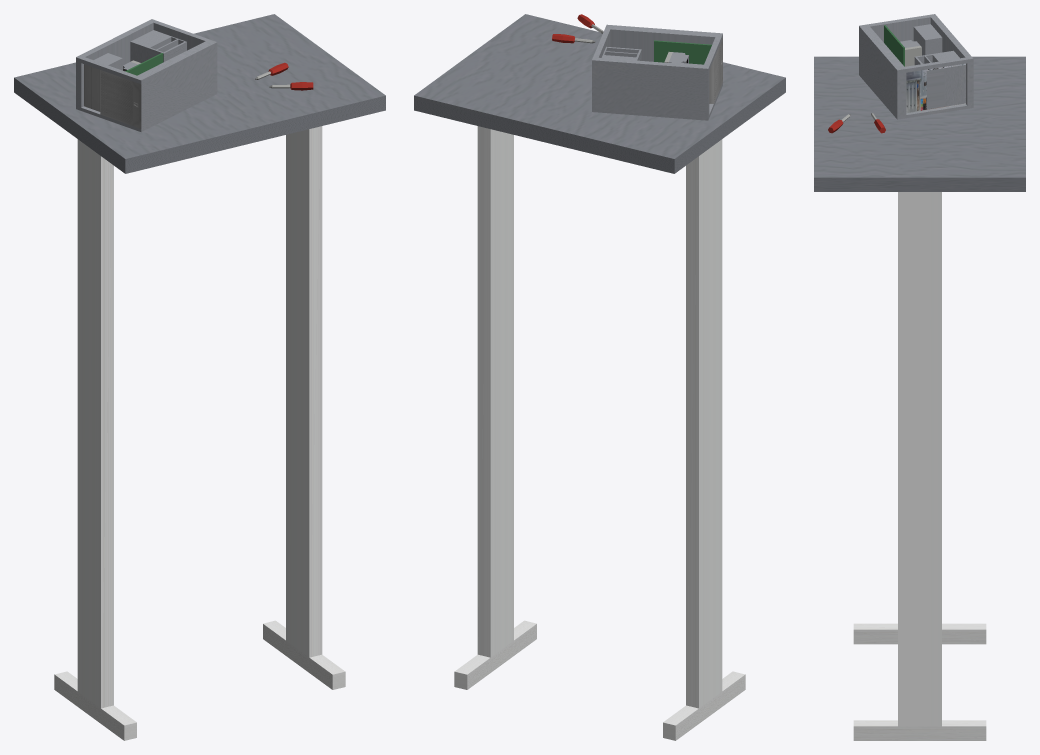
The model's file is DeskWorkSize2V1PC.gltf.
3 views of the same model, side by side, from view 1: azimuth 30°, elevation 25°; view 2: azimuth 150°, elevation 25°; view 3: azimuth 270°, elevation 25° (orthographic). The views are drawn at different scales.
Parts seen in each view (by area): view 1: Cube, Cube.001; view 2: Cube, Cube.001; view 3: Cube, Cube.001.
Boxes of the visible parts, box(x1,y1,x2,y2) form: Cube: box(14, 14, 385, 740); Cube.001: box(76, 19, 217, 131); Cube: box(414, 14, 785, 740); Cube.001: box(592, 24, 722, 120); Cube: box(814, 56, 1025, 740); Cube.001: box(859, 14, 973, 119).
Bounding box in the file's own units: 0.5 × 1.2 × 0.3705.
3 materials, 3 textured.
